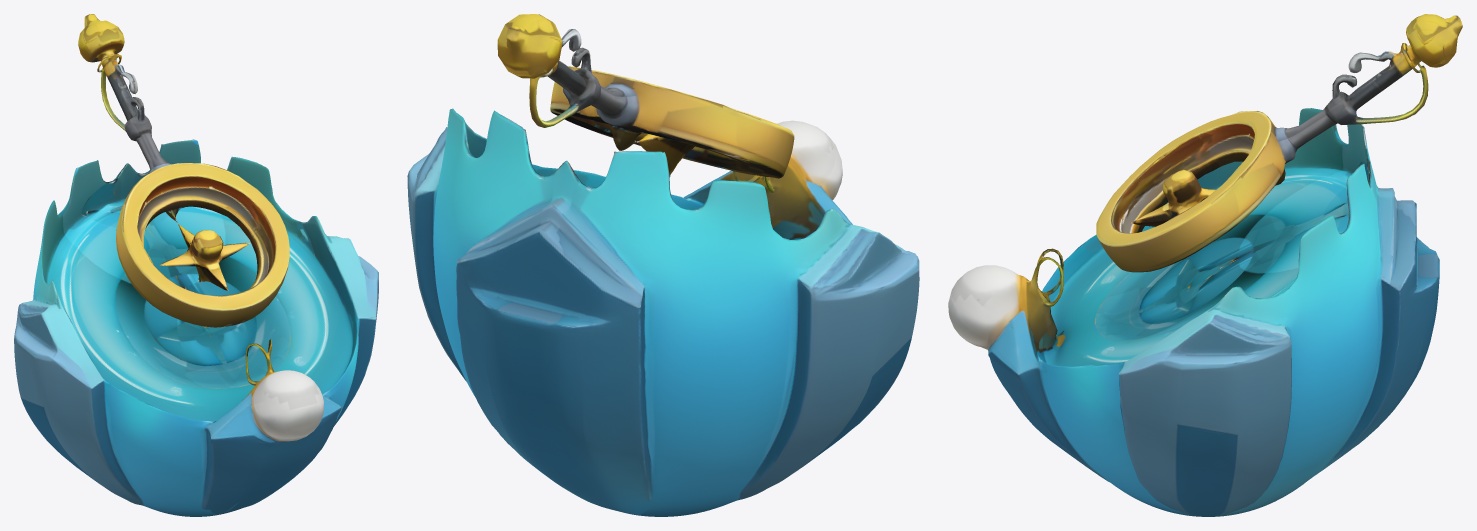
Rendered from activities.glb.
3 views of the same model, side by side, from view 1: azimuth 30°, elevation 25°; view 2: azimuth 150°, elevation 25°; view 3: azimuth 270°, elevation 25° (orthographic). The views are drawn at different scales.
Parts seen in each view (by area): view 1: model; view 2: model; view 3: model.
Boxes of the visible parts, x1=… form: model: x1=14, y1=14, x2=378, y2=516; model: x1=407, y1=14, x2=919, y2=516; model: x1=948, y1=14, x2=1462, y2=516.
Size of the model in its own units: 1.63 by 1.88 by 1.79.
Materials: 1 (1 with a texture image).
